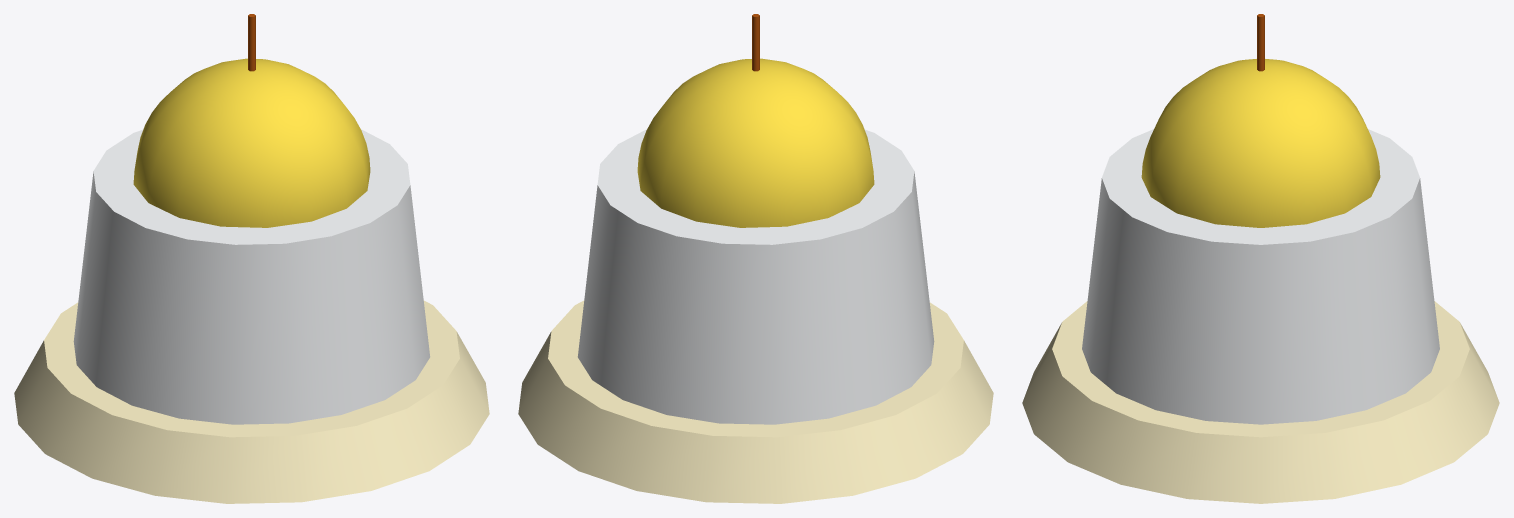
The model's file is tangerine_observatory.glb.
3 views of the same model, side by side, from view 1: azimuth 30°, elevation 25°; view 2: azimuth 150°, elevation 25°; view 3: azimuth 270°, elevation 25° (orthographic).
Parts seen in each view (by area): view 1: TangerineObservatory; view 2: TangerineObservatory; view 3: TangerineObservatory.
Part boxes in pixels (x1,y1,x2,y2): TangerineObservatory: (14, 14, 489, 503); TangerineObservatory: (518, 14, 993, 503); TangerineObservatory: (1022, 14, 1499, 503).
Size of the model in its own units: 9.6 by 8.6 by 9.6.
